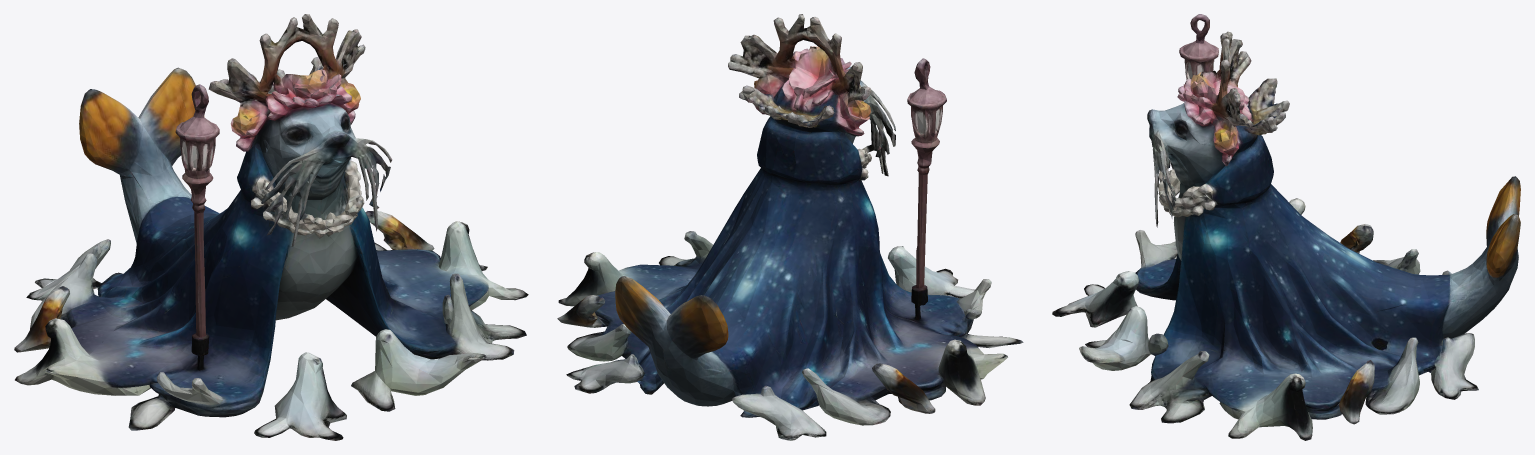
Rendered from selkira__queenOfTheSealfolk.glb.
3 views of the same model, side by side, from view 1: azimuth 30°, elevation 25°; view 2: azimuth 150°, elevation 25°; view 3: azimuth 270°, elevation 25° (orthographic). The views are drawn at different scales.
Parts seen in each view (by area): view 1: world; view 2: world; view 3: world.
Boxes of the visible parts, left/top/right/bottom form: world: left=14, top=14, right=528, bottom=440; world: left=557, top=14, right=1023, bottom=440; world: left=1052, top=14, right=1520, bottom=440.
Bounding box in the file's own units: 1 × 0.7055 × 0.9661.
Materials: 1 (1 with a texture image).
